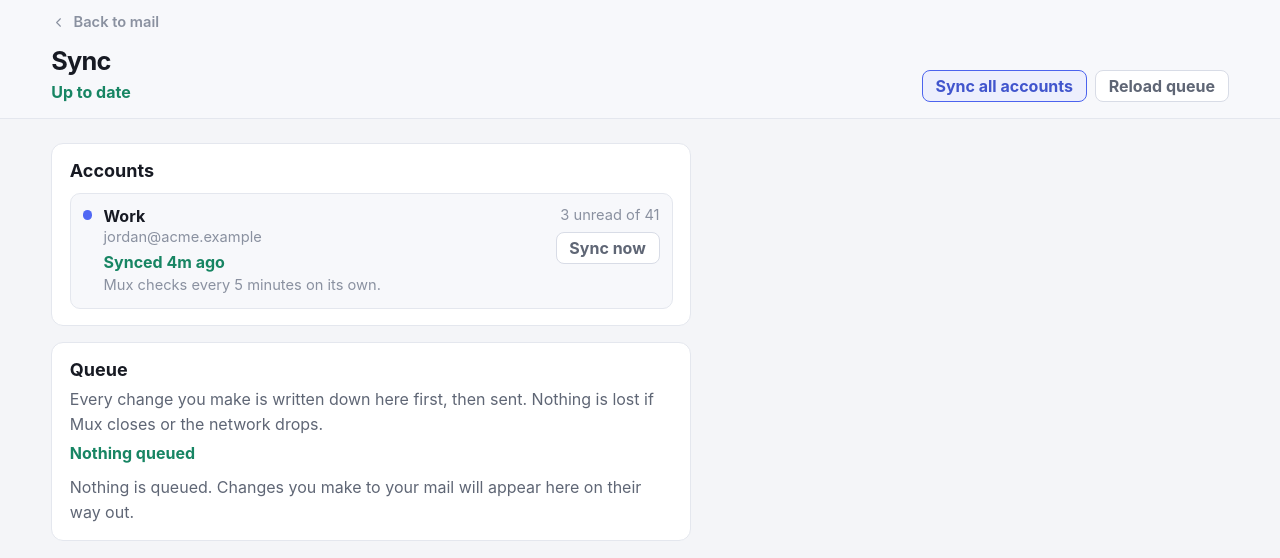
sync status screen › an account that was already syncing is not reported as a refusal
This screenshot has width=1280, height=558.
What coordinates should you click on to do the following:
click the button with test id "sync-all"
I would click on:
 (1004, 86)
Its box is [922, 70, 1087, 102].
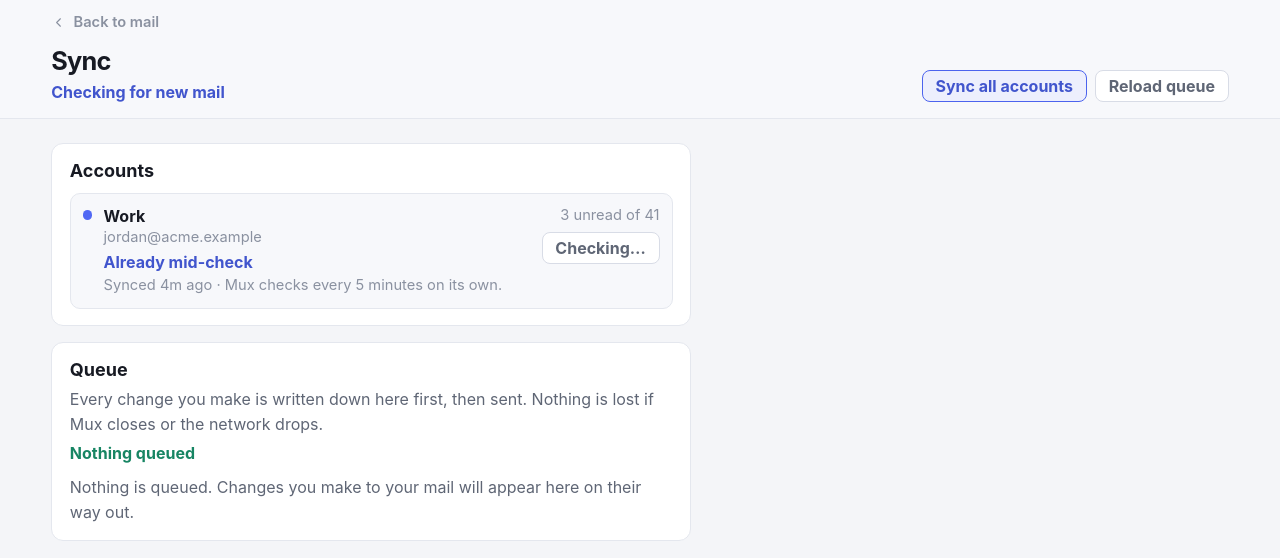
Result: the text with test id "sync-account-headline" reads "Already mid-check" at [104, 252, 253, 272]
